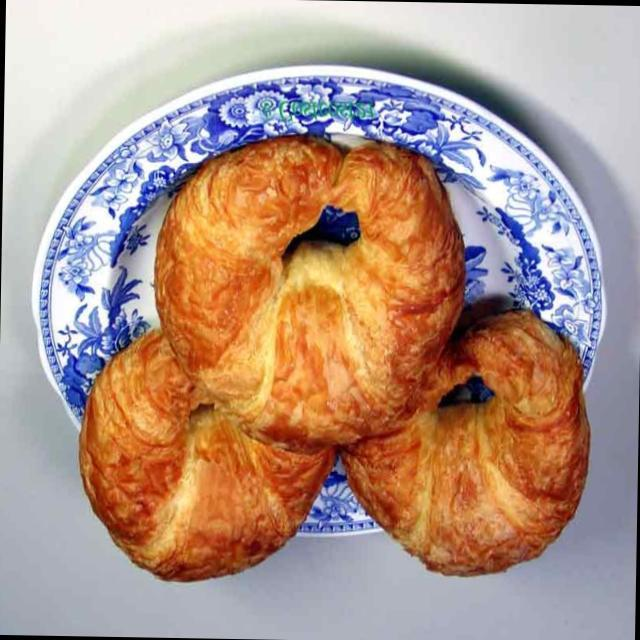Croissant: (139, 130, 476, 446)
